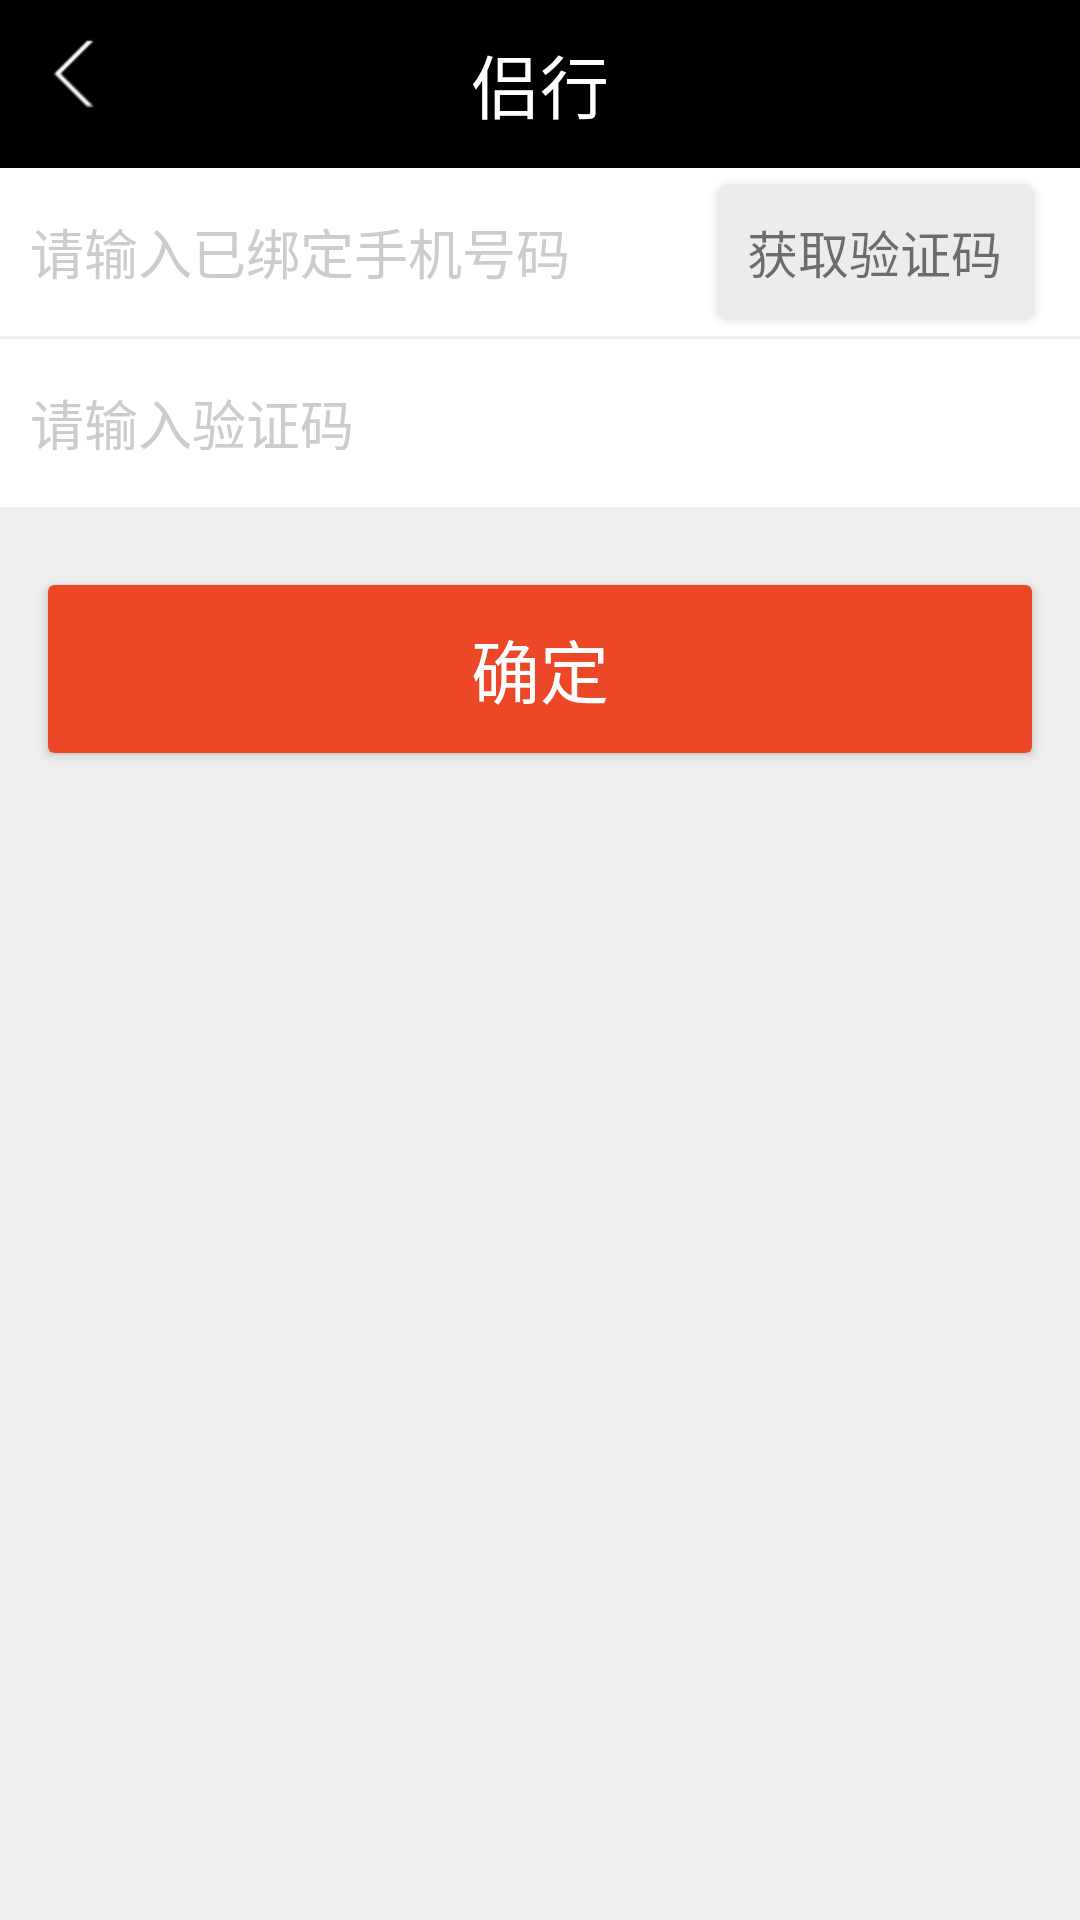

Named icons in this screenshot (1080w x 1920h) and their bounding boxes, (x1, y1, x2, y2):
back: (53, 40, 94, 108)
